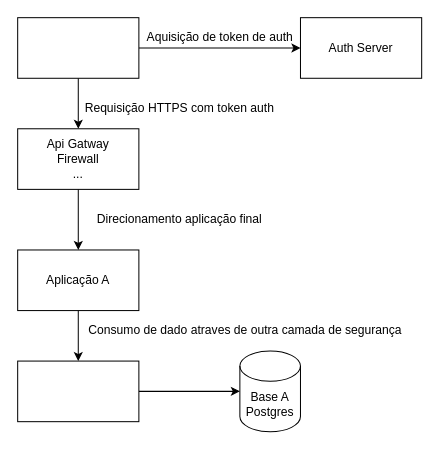
This 439x449 diagram has some shape labels left out. Here are the shapes that lost their labels. From the top down, the centre of each, then its label:
At [78,47]: "Qualquer cliente HTTP".
At [78,391]: "Proxy server firewall".
